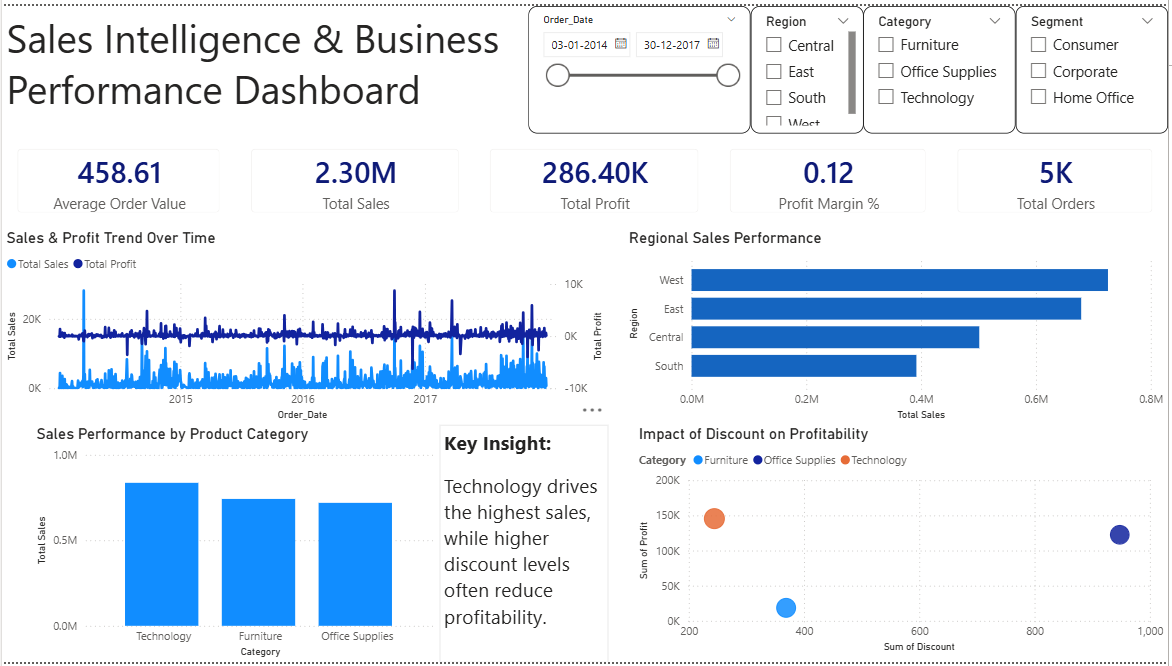

This screenshot's page, from the dashboard's own definition file:
{"tool":"powerbi","page":{"name":"Page 1","canvas":[1280,720],"ordinal":0},"visuals":[{"type":"cardVisual","fields":{"Data":["cleaned_superstore_data.Total Sales"]},"box":[256.6,140,262.1,104.3],"z":0},{"type":"cardVisual","fields":{"Data":["cleaned_superstore_data.Total Profit"]},"box":[518.7,140,263.5,104.3],"z":1000},{"type":"cardVisual","fields":{"Data":["cleaned_superstore_data.Profit Margin %"]},"box":[782.2,140,249.7,104.3],"z":2000},{"type":"cardVisual","fields":{"Data":["cleaned_superstore_data.Total Orders"]},"box":[1031.9,140,248.4,104.3],"z":3000},{"type":"textbox","box":[0,0,572.2,140],"z":4000},{"type":"slicer","fields":{"Values":["cleaned_superstore_data.Order_Date.Variation.Date Hierarchy.Year"]},"box":[577.1,0,244.3,140],"z":5000},{"type":"slicer","fields":{"Values":["cleaned_superstore_data.Region"]},"box":[821.4,0,124.3,140],"z":6000},{"type":"slicer","fields":{"Values":["cleaned_superstore_data.Category"]},"box":[945.5,0,167.4,140],"z":7000},{"type":"slicer","fields":{"Values":["cleaned_superstore_data.Segment"]},"box":[1112.9,0,167.4,140],"z":8000},{"type":"lineChart","title":"Sales & Profit Trend Over Time","fields":{"Y":["cleaned_superstore_data.Total Sales"],"Y2":["cleaned_superstore_data.Total Profit"],"Category":["cleaned_superstore_data.Order_Date.Variation.Date Hierarchy.Year"]},"box":[0,244.3,665.5,215.4],"z":9000},{"type":"clusteredBarChart","title":"Regional Sales Performance","fields":{"Category":["cleaned_superstore_data.Region"],"Y":["cleaned_superstore_data.Total Sales"]},"box":[683.4,244.3,596.9,215.4],"z":10000},{"type":"clusteredColumnChart","title":"Sales Performance by Product Category","fields":{"Category":["cleaned_superstore_data.Category"],"Y":["cleaned_superstore_data.Total Sales"]},"box":[32.9,459.7,447.3,260.7],"z":11000},{"type":"scatterChart","title":"Impact of Discount on Profitability","fields":{"X":["Sum(cleaned_superstore_data.Discount)"],"Y":["Sum(cleaned_superstore_data.Profit)"],"Size":["Sum(cleaned_superstore_data.Sales)"],"Series":["cleaned_superstore_data.Category"]},"box":[694.3,459.7,585.9,255.2],"z":12000},{"type":"cardVisual","fields":{"Data":["cleaned_superstore_data.Average Order Value"]},"box":[0,140,256.6,104.3],"z":13000},{"type":"textbox","box":[480,460,186,260],"z":14000}]}

Visuals, with their boxes in screenshot pixels (x1, y1, x2, y2), scaled from the page's 1280x720 canvas onto the 1172x666 screenshot:
cardVisual - cleaned_superstore_data.Total Sales: select_region(235, 130, 475, 226)
cardVisual - cleaned_superstore_data.Total Profit: select_region(475, 130, 716, 226)
cardVisual - cleaned_superstore_data.Profit Margin %: select_region(716, 130, 945, 226)
cardVisual - cleaned_superstore_data.Total Orders: select_region(945, 130, 1171, 226)
textbox: select_region(0, 0, 524, 130)
slicer - cleaned_superstore_data.Order_Date.Variation.Date Hierarchy.Year: select_region(528, 0, 752, 130)
slicer - cleaned_superstore_data.Region: select_region(752, 0, 866, 130)
slicer - cleaned_superstore_data.Category: select_region(866, 0, 1019, 130)
slicer - cleaned_superstore_data.Segment: select_region(1019, 0, 1171, 130)
"Sales & Profit Trend Over Time" lineChart: select_region(0, 226, 609, 425)
"Regional Sales Performance" clusteredBarChart: select_region(626, 226, 1171, 425)
"Sales Performance by Product Category" clusteredColumnChart: select_region(30, 425, 440, 665)
"Impact of Discount on Profitability" scatterChart: select_region(636, 425, 1171, 661)
cardVisual - cleaned_superstore_data.Average Order Value: select_region(0, 130, 235, 226)
textbox: select_region(440, 426, 610, 665)
